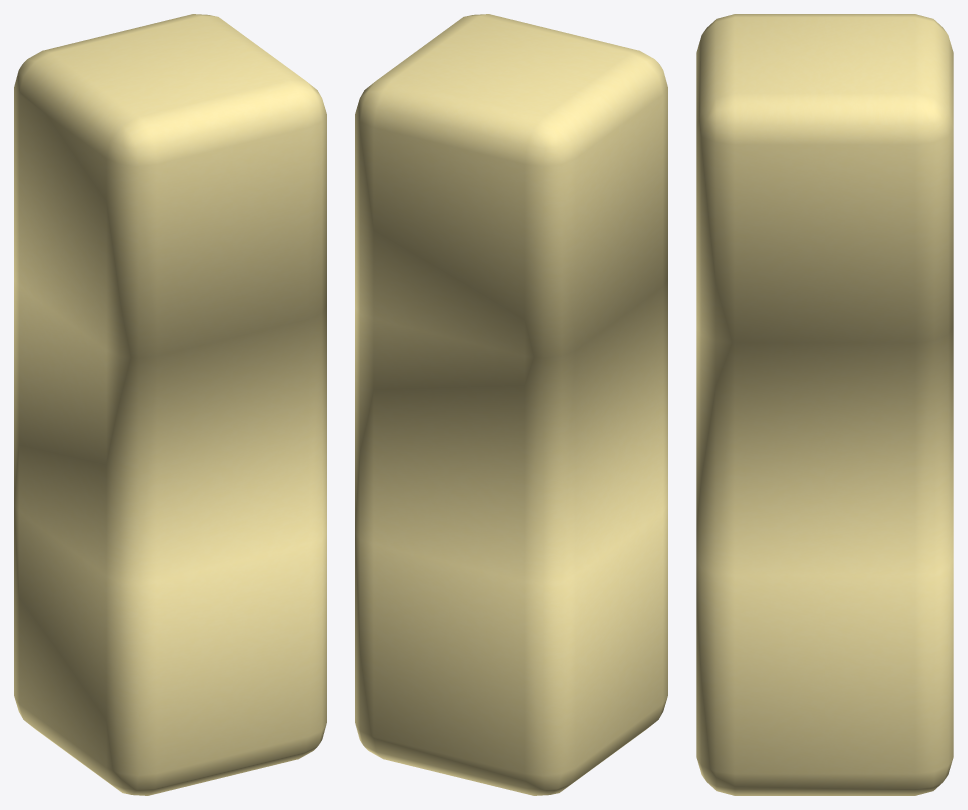
File: __clay_block_07_17.obj
The picture shows the model from 3 angles, left to right: view 1: azimuth 30°, elevation 25°; view 2: azimuth 150°, elevation 25°; view 3: azimuth 270°, elevation 25°; orthographic projection. The views are drawn at different scales.
Visible parts, largest first — view 1: clay_block_17; view 2: clay_block_17; view 3: clay_block_17.
Boxes of the visible parts, x1,y1,x2,y2 form: clay_block_17: (14, 14, 326, 795); clay_block_17: (355, 14, 667, 795); clay_block_17: (696, 14, 953, 795).
Bounding box in the file's own units: 1 × 3 × 1.
1 material, 1 textured.
